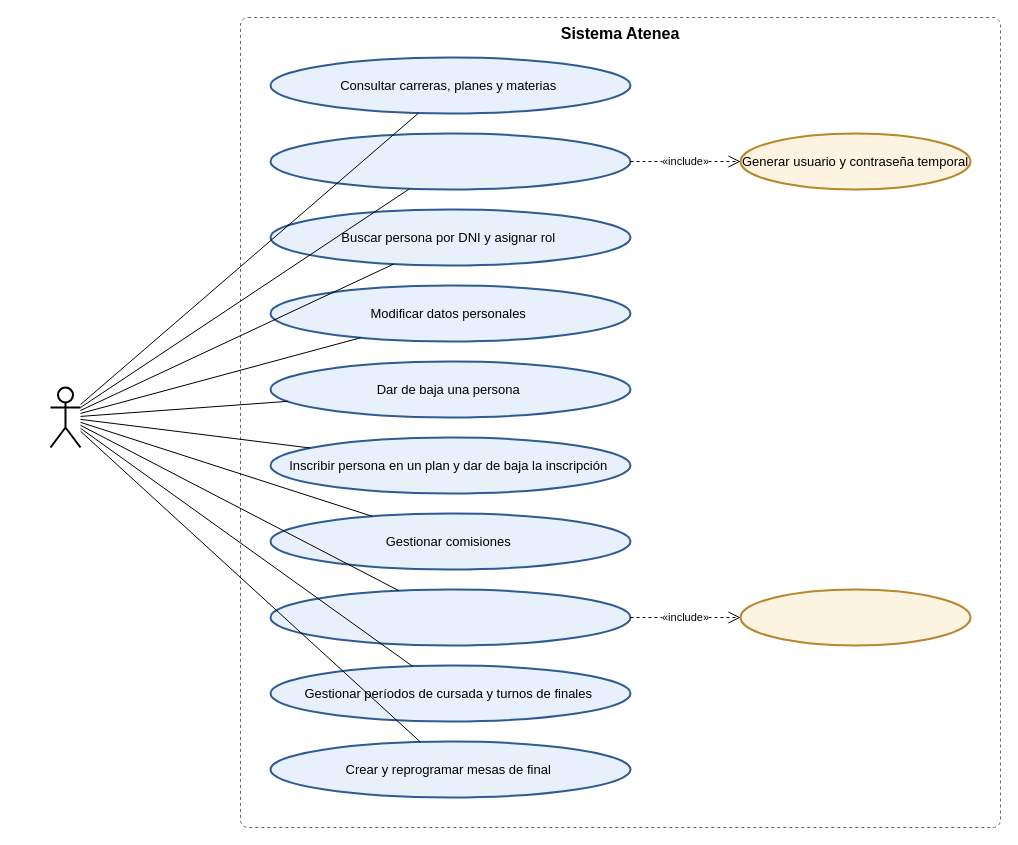
Some shapes in this 1018 by 845 pixel diagram are drawn without their labels. Each missing label, with the centre of its shape:
"Administrador" goes at pixel 65 417.
"Asignar materias con cupo, docentes y horarios con aula" goes at pixel 450 617.
"Registrar estudiante o docente" goes at pixel 450 161.
"Validar un único titular por materia" goes at pixel 855 617.
